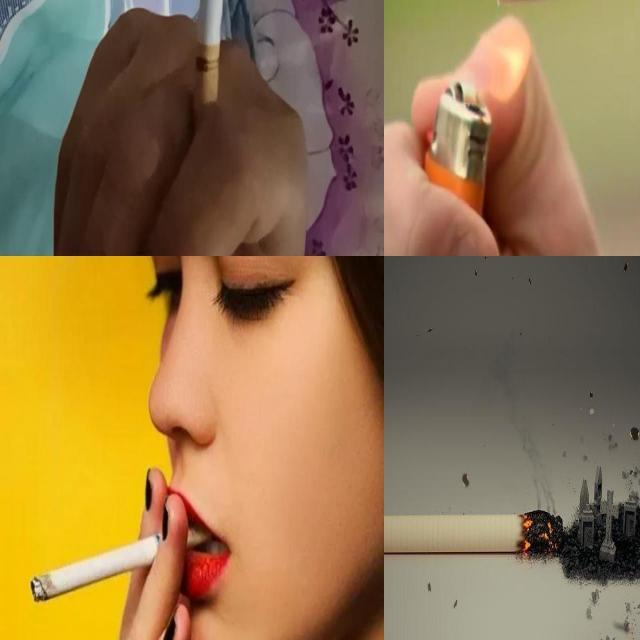smoke: (30, 523, 214, 603), (190, 0, 230, 204), (384, 514, 564, 553)
